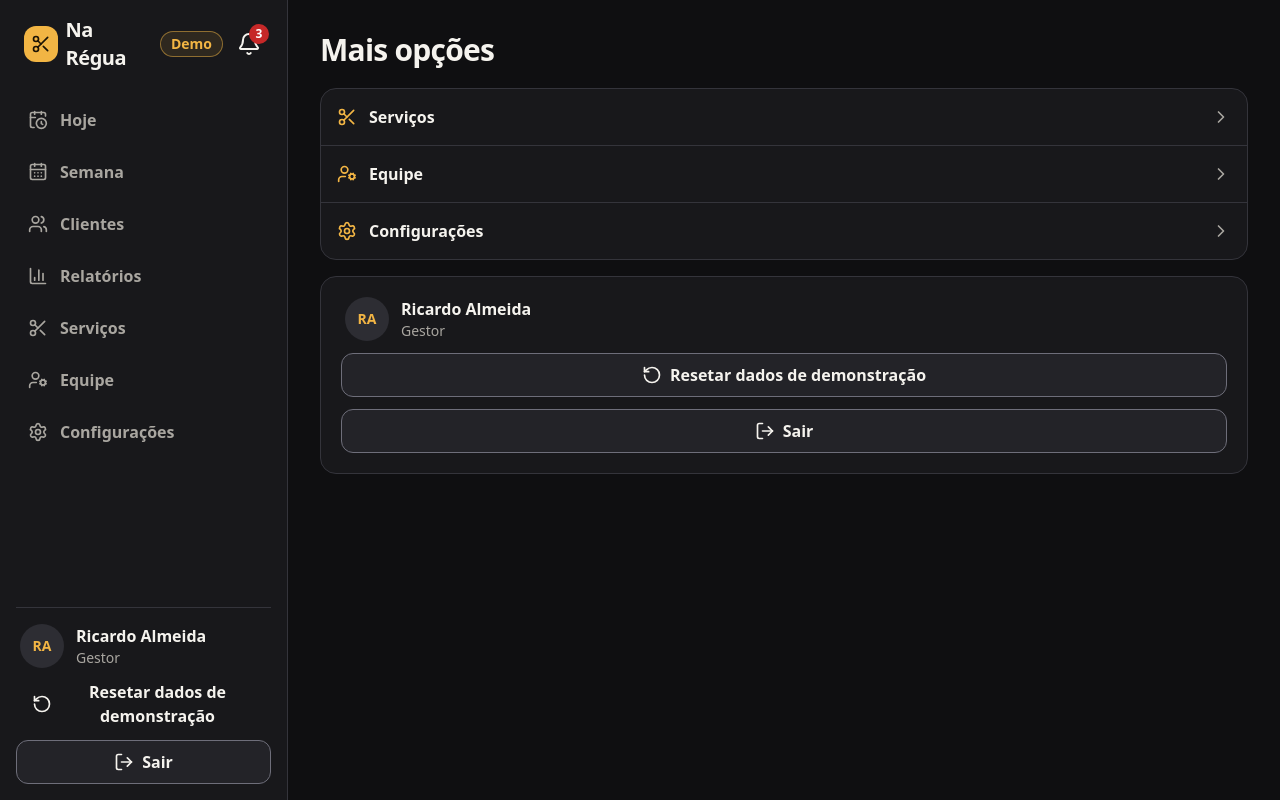
Test case: account actions › resets the demo data after confirmation
Click the 2nd button "Resetar dados de demonstração" at (144, 704), box [16, 680, 271, 728]
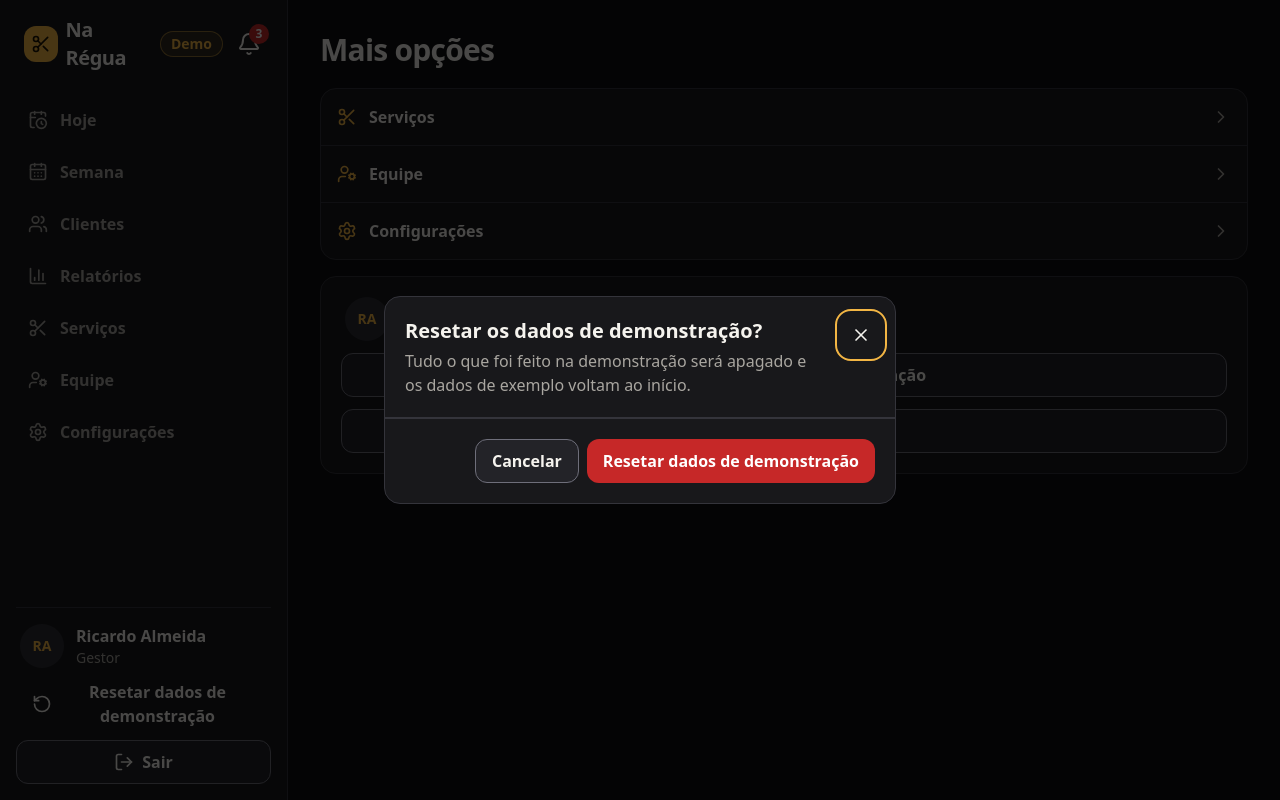
Click the button "Resetar dados de demonstração" below "Resetar os dados de demonstração?" at (731, 461), box [587, 439, 875, 483]
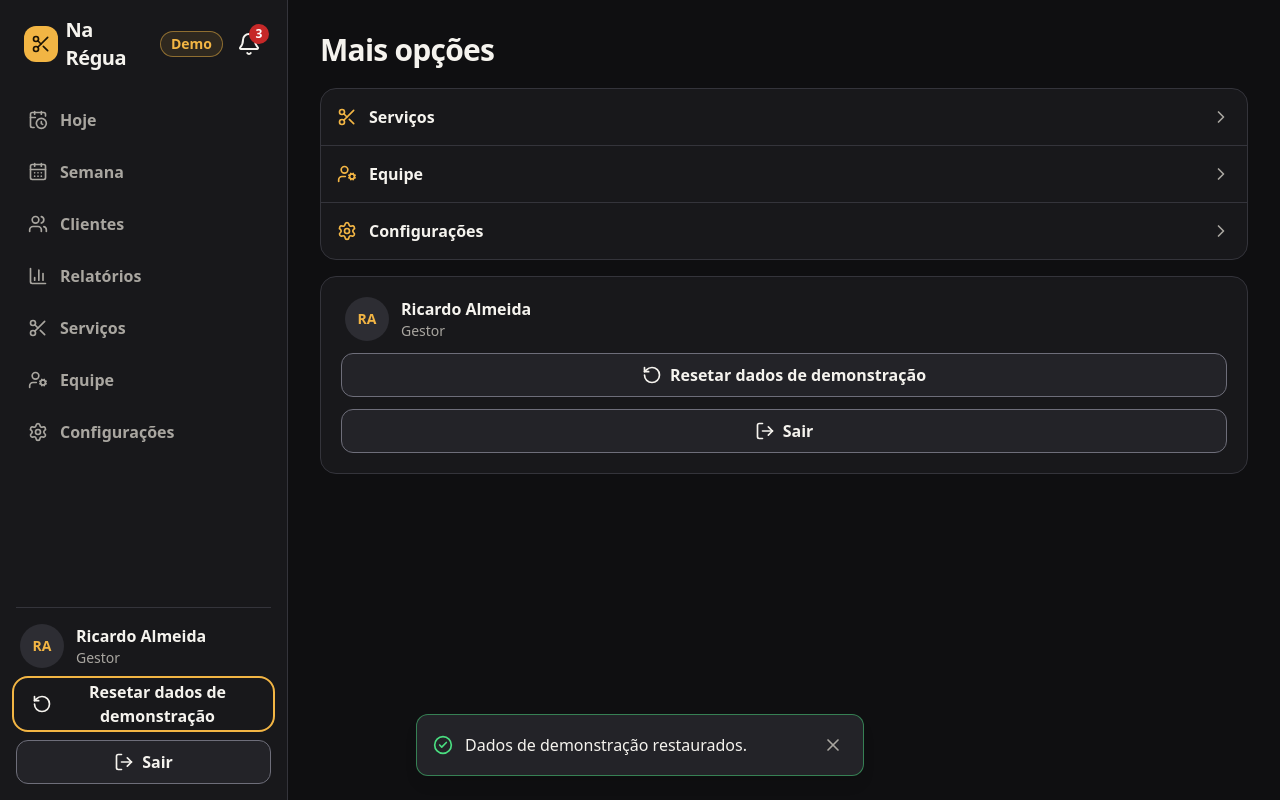
Expected: the text "Dados de demonstração restaurados." is shown, [465, 734, 747, 756]
